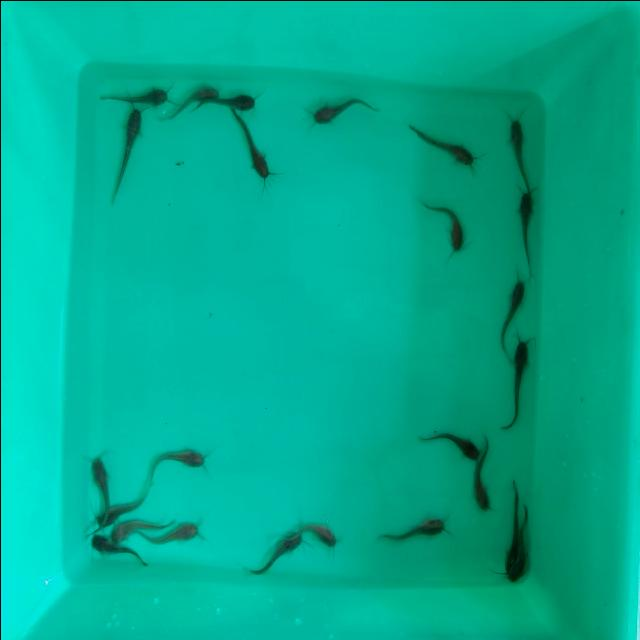lele: (406, 120, 478, 168), (496, 477, 520, 588), (114, 109, 142, 200), (419, 203, 467, 256), (245, 532, 302, 576), (235, 115, 270, 182), (310, 96, 376, 130), (507, 110, 535, 190), (417, 428, 482, 462), (379, 512, 449, 542), (508, 338, 530, 430), (109, 515, 174, 545), (101, 81, 170, 109), (91, 494, 144, 528), (498, 275, 524, 343), (89, 536, 144, 568), (168, 82, 218, 115), (516, 191, 534, 267), (155, 522, 205, 548), (152, 448, 206, 471), (90, 453, 112, 508), (472, 457, 490, 519), (300, 520, 338, 549), (516, 508, 530, 584), (215, 91, 258, 112)
